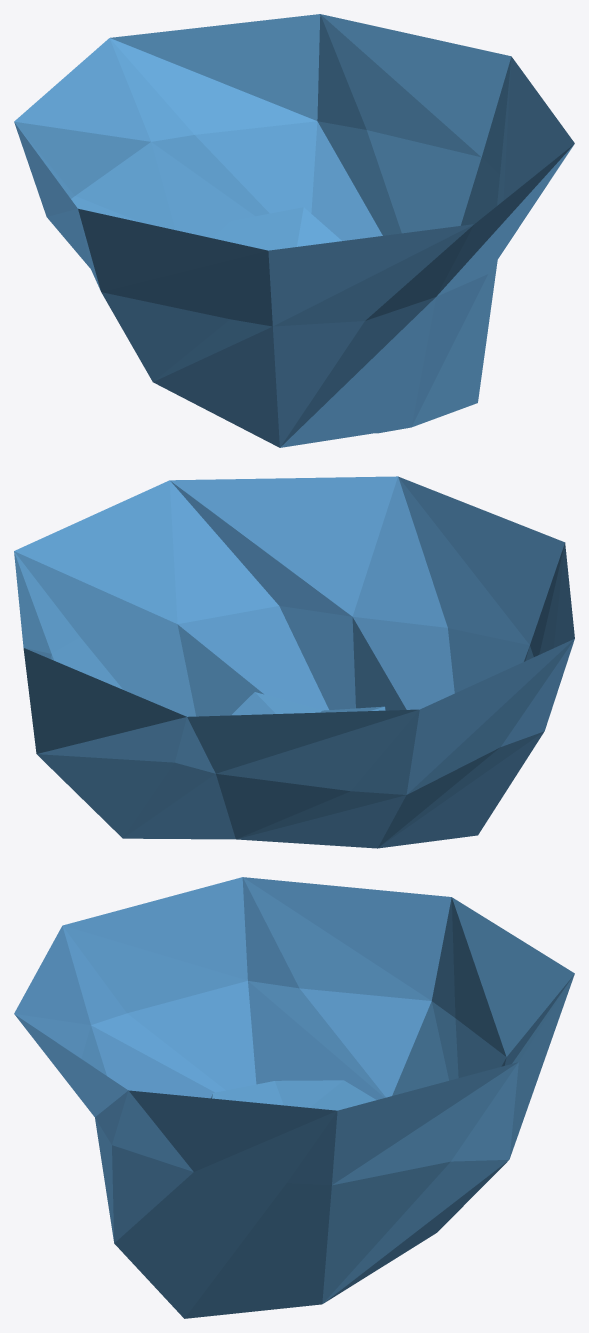
File: sp_plant03.glb
3 renders of one model, top to bottom at view 1: azimuth 30°, elevation 25°; view 2: azimuth 150°, elevation 25°; view 3: azimuth 270°, elevation 25°, orthographic. The views are drawn at different scales.
Visible parts, largest first — view 1: SP_Plant03; view 2: SP_Plant03; view 3: SP_Plant03.
Part boxes in pixels (left/top/right/bottom): SP_Plant03: left=14, top=14, right=574, bottom=447; SP_Plant03: left=14, top=476, right=574, bottom=848; SP_Plant03: left=14, top=877, right=574, bottom=1318.
Bounding box in the file's own units: 55.57 × 29.06 × 56.4.
1 material, 1 textured.
